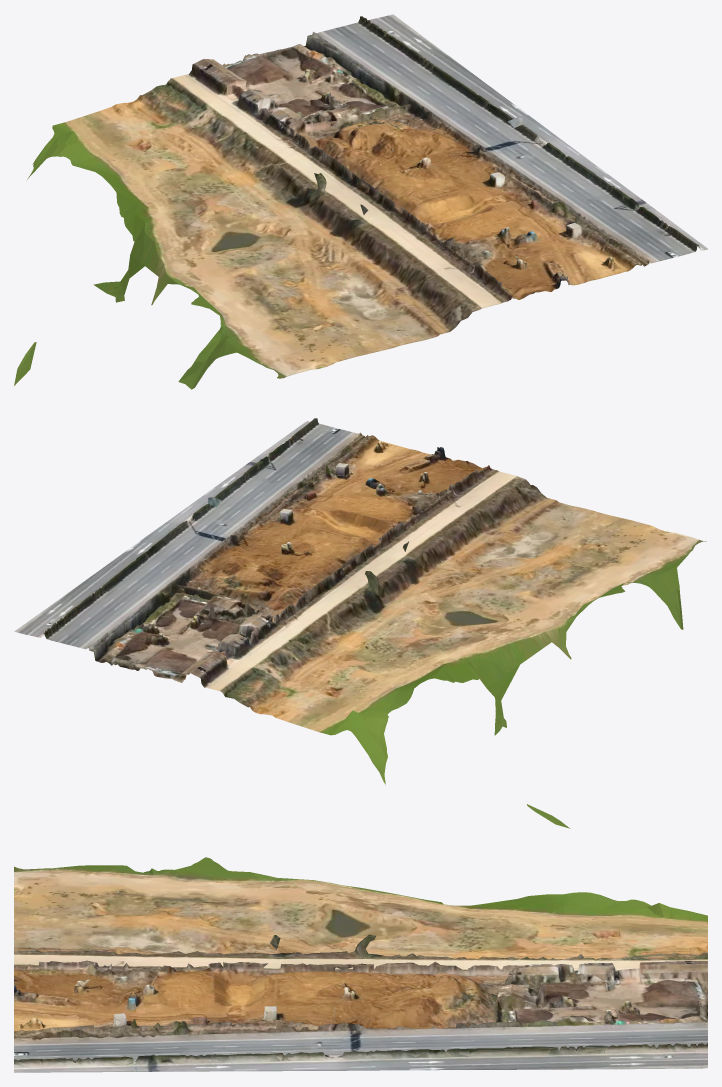
File: BlockYY_L17_3.glb
3 renders of one model, top to bottom at view 1: azimuth 30°, elevation 25°; view 2: azimuth 150°, elevation 25°; view 3: azimuth 270°, elevation 25°, orthographic. The views are drawn at different scales.
Parts seen in each view (by area): view 1: rtc; view 2: rtc; view 3: rtc.
Boxes of the visible parts, x1,y1,x2,y2 form: rtc: (14, 14, 707, 389); rtc: (14, 418, 706, 828); rtc: (14, 857, 707, 1072).
Size of the model in its own units: 158 by 62.99 by 176.
Materials: 4 (4 with a texture image).
